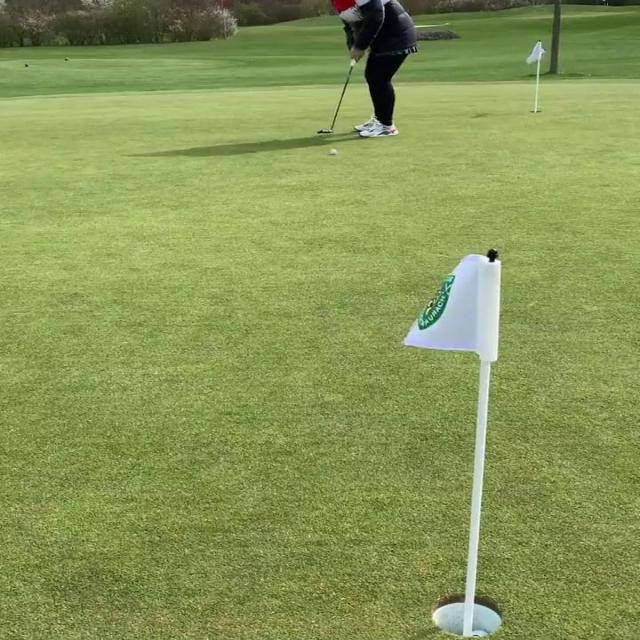golf ball: (329, 149, 337, 154)
golf club-handle: (318, 59, 355, 134)
golf club-head: (317, 129, 334, 133)
